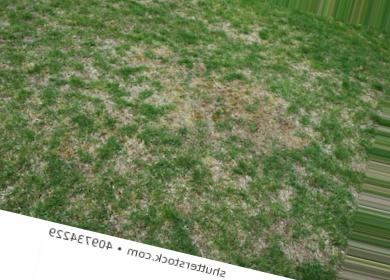patch: (223, 98, 267, 136), (165, 84, 201, 119), (216, 29, 253, 45), (176, 71, 210, 85), (129, 48, 156, 65), (274, 121, 290, 139), (115, 108, 131, 122), (144, 119, 166, 128), (213, 163, 225, 179), (84, 63, 97, 77), (103, 38, 124, 46)
